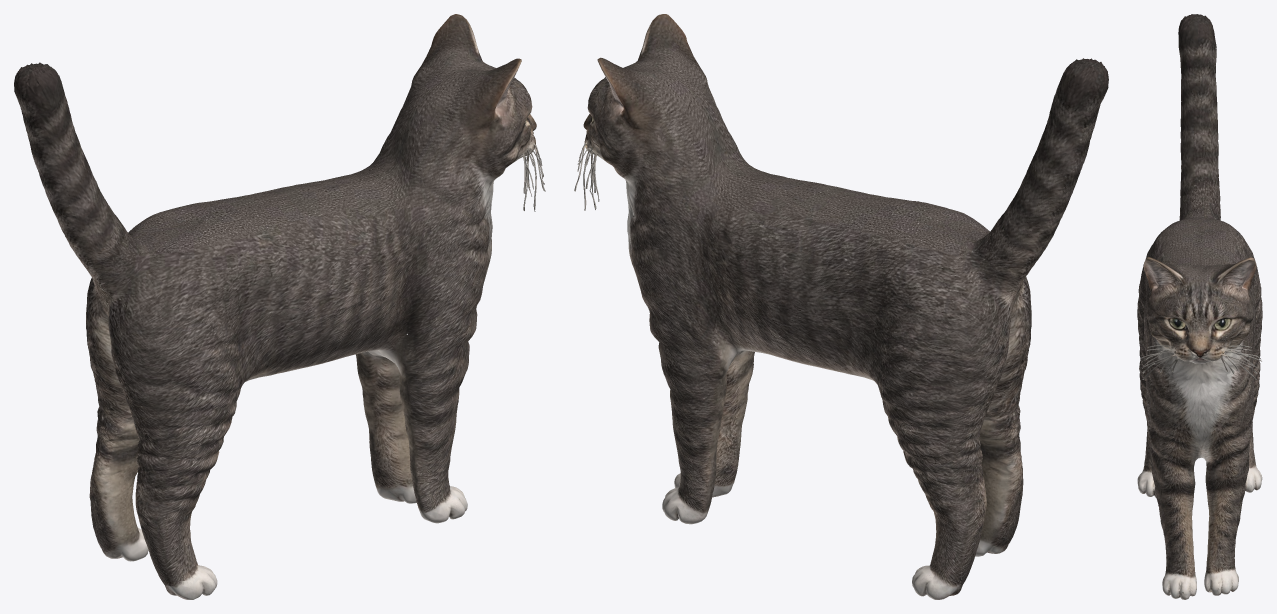
File: PAWFFICER.glb
3 renders of one model, left to right at view 1: azimuth 30°, elevation 25°; view 2: azimuth 150°, elevation 25°; view 3: azimuth 270°, elevation 25°, orthographic. The views are drawn at different scales.
Parts seen in each view (by area): view 1: tripo_node_d5158124-e6f1-4724-8822-1594bba456c3; view 2: tripo_node_d5158124-e6f1-4724-8822-1594bba456c3; view 3: tripo_node_d5158124-e6f1-4724-8822-1594bba456c3.
Boxes of the visible parts, x1,y1,x2,y2 form: tripo_node_d5158124-e6f1-4724-8822-1594bba456c3: (14, 14, 545, 599); tripo_node_d5158124-e6f1-4724-8822-1594bba456c3: (574, 14, 1108, 599); tripo_node_d5158124-e6f1-4724-8822-1594bba456c3: (1137, 14, 1262, 599).
Bounding box in the file's own units: 1 × 0.9998 × 0.2668.
1 material, 1 textured.
